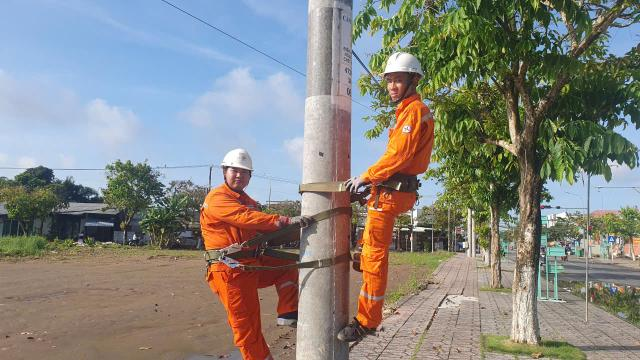gloves: (338, 171, 368, 197), (287, 213, 314, 228)
harness: (197, 232, 282, 276), (356, 167, 420, 195)
helmet: (369, 46, 426, 87), (213, 142, 261, 180)
shoes: (326, 309, 372, 345), (274, 301, 304, 330), (351, 245, 370, 272)
